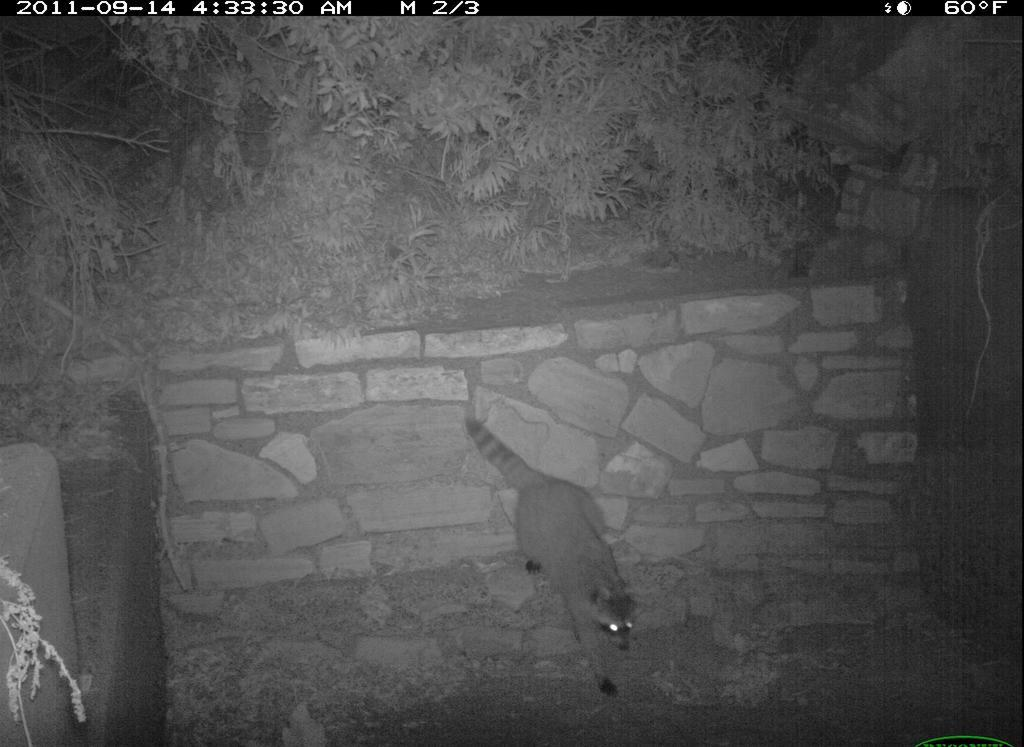raccoon: (464, 413, 644, 698)
